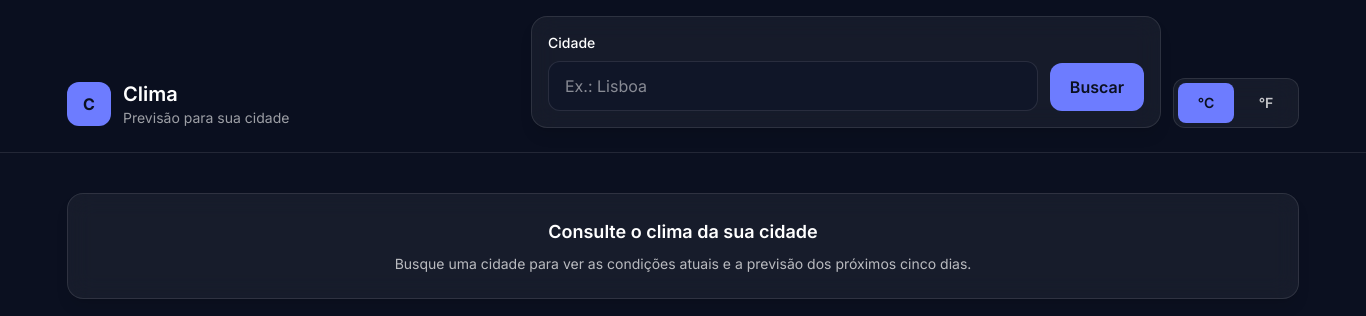
Scenario: App › shows the empty state when the search does not match the mock city
Type "Porto" into the search field labelled "Cidade" at [793, 86], box [548,61,1038,111]
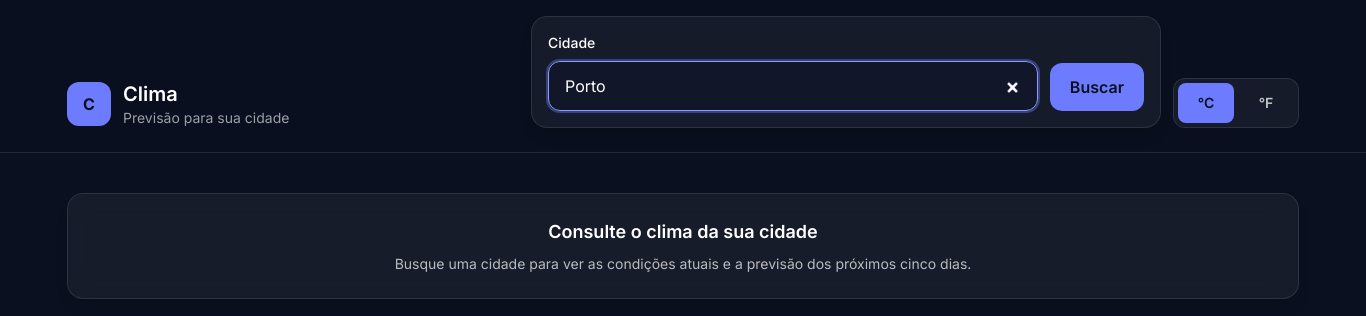
Click the button "Buscar" at [1097, 87], box [1050,63,1144,111]
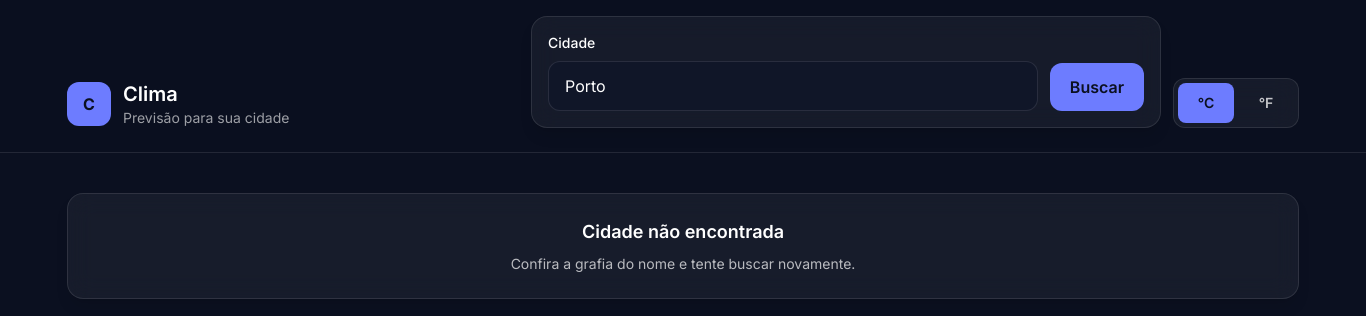
expect the heading "Cidade não encontrada" is shown: met, box [582,221,784,242]
